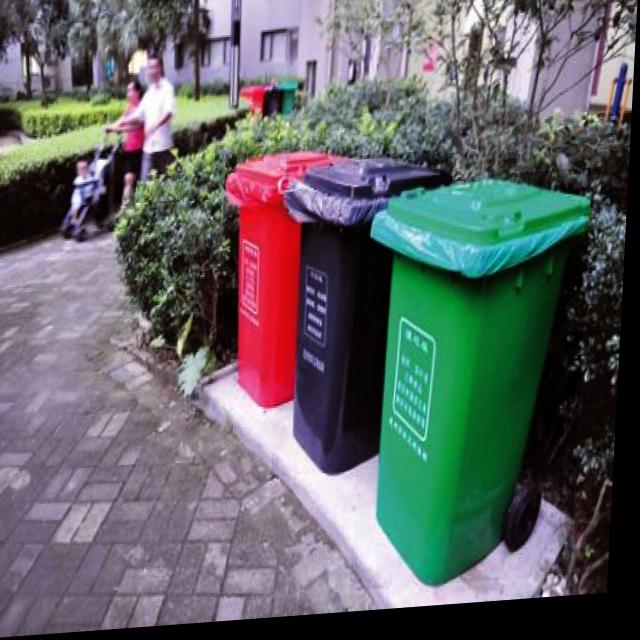garbage_bin: (357, 177, 593, 597), (277, 156, 456, 482), (218, 150, 360, 414)
